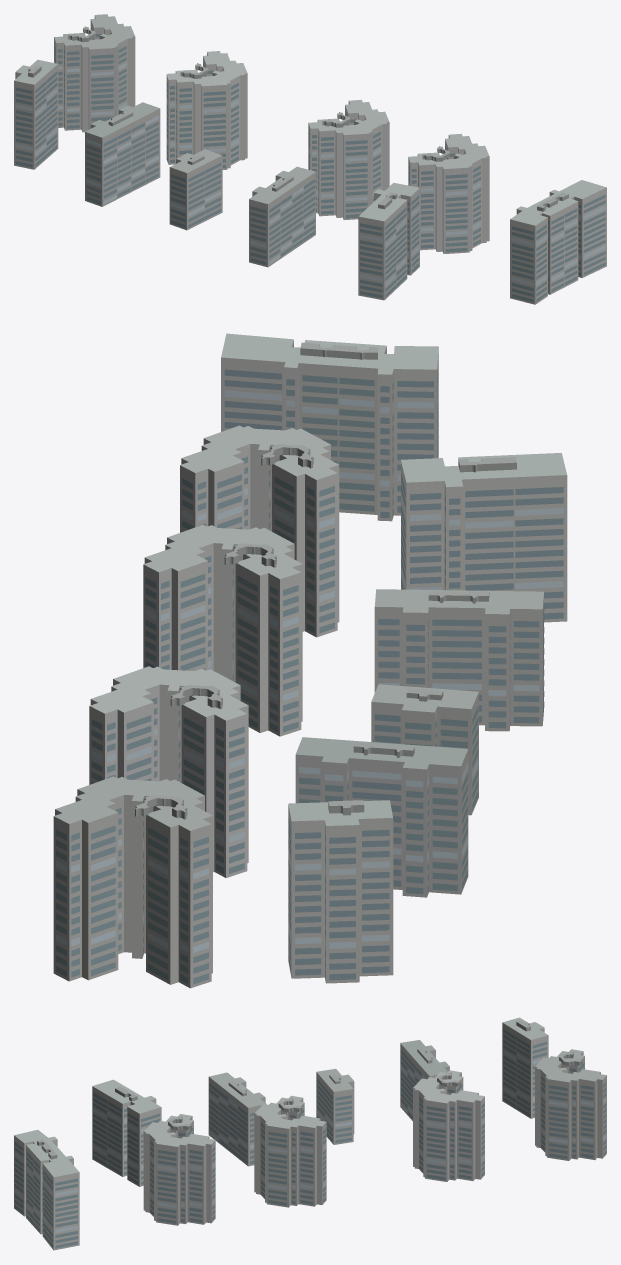
Rendered from apt-a13410004.glb.
The picture shows the model from 3 angles, top to bottom: view 1: azimuth 30°, elevation 25°; view 2: azimuth 150°, elevation 25°; view 3: azimuth 270°, elevation 25°; orthographic projection. The views are drawn at different scales.
Visible parts, largest first — view 1: apt-a13410004; view 2: apt-a13410004; view 3: apt-a13410004.
Part boxes in pixels (x1=…): apt-a13410004: x1=14, y1=14, x2=606, y2=304; apt-a13410004: x1=53, y1=333, x2=567, y2=988; apt-a13410004: x1=14, y1=1017, x2=606, y2=1250.
Size of the model in its own units: 173 by 43 by 280.
